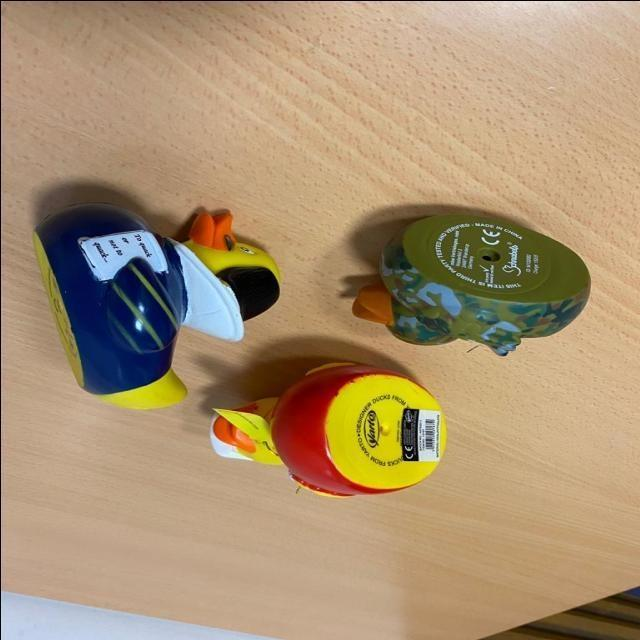rubber-duck: (32, 203, 279, 407), (209, 362, 444, 495), (379, 214, 588, 353)
